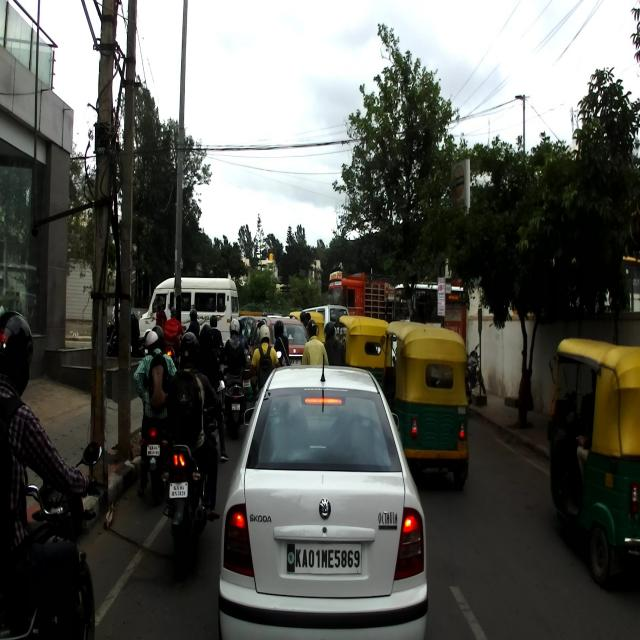autorickshaw: (546, 336, 638, 588), (378, 321, 468, 494), (335, 314, 389, 390)
car: (218, 353, 429, 637)
motorcycle: (0, 440, 102, 639), (164, 397, 222, 565)
scooter: (221, 354, 252, 442)
